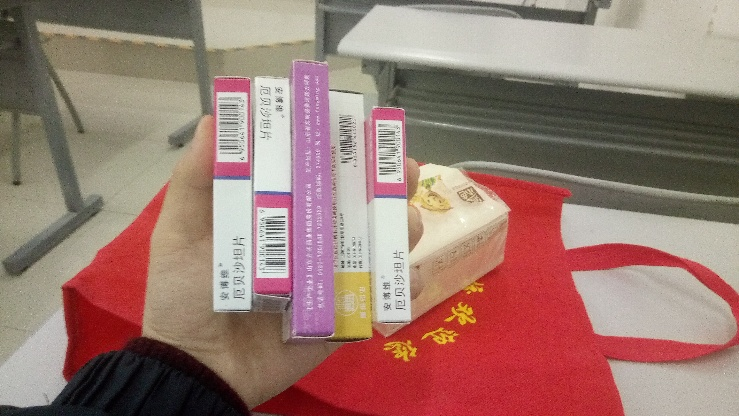pillbox: (290, 56, 336, 338), (325, 88, 372, 346), (211, 78, 253, 321), (368, 107, 415, 324), (250, 77, 294, 301)
